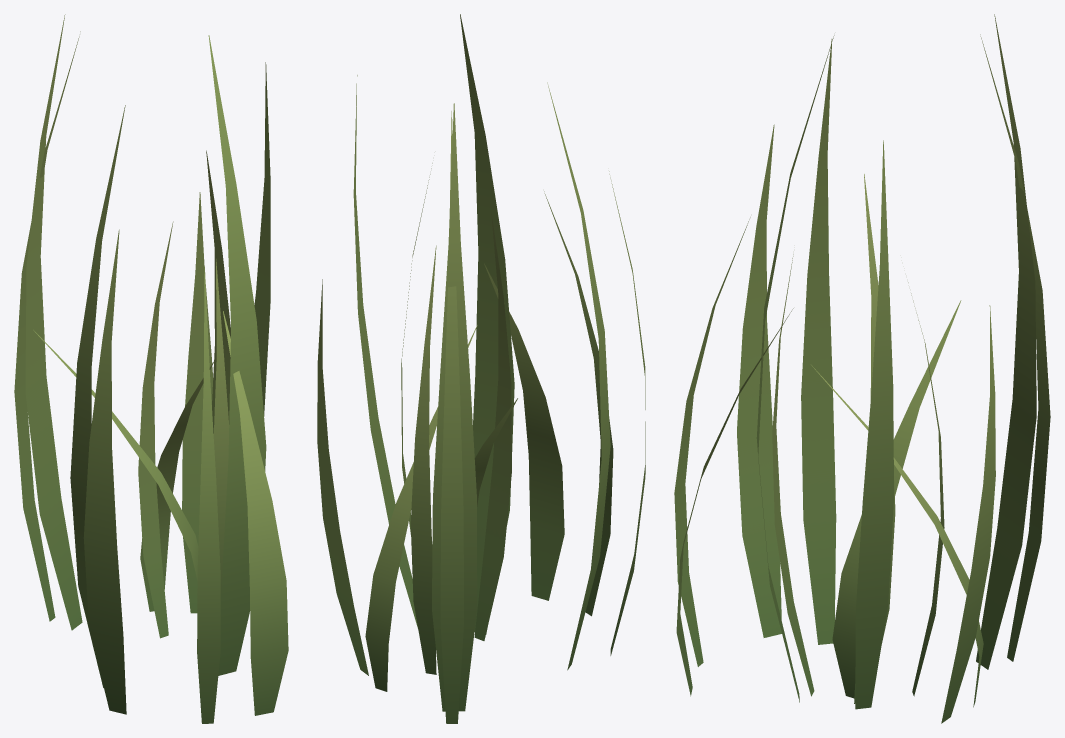
Rendered from Grass_Tuft_04.glb.
3 renders of one model, left to right at view 1: azimuth 30°, elevation 25°; view 2: azimuth 150°, elevation 25°; view 3: azimuth 270°, elevation 25°, orthographic. The views are drawn at different scales.
Visible parts, largest first — view 1: Grass_Tuft_04; view 2: Grass_Tuft_04; view 3: Grass_Tuft_04.
Boxes of the visible parts, left/top/right/bottom form: Grass_Tuft_04: left=14, top=14, right=288, bottom=723; Grass_Tuft_04: left=317, top=14, right=645, bottom=723; Grass_Tuft_04: left=674, top=14, right=1050, bottom=723.
Bounding box in the file's own units: 0.1911 × 0.4826 × 0.2468.
